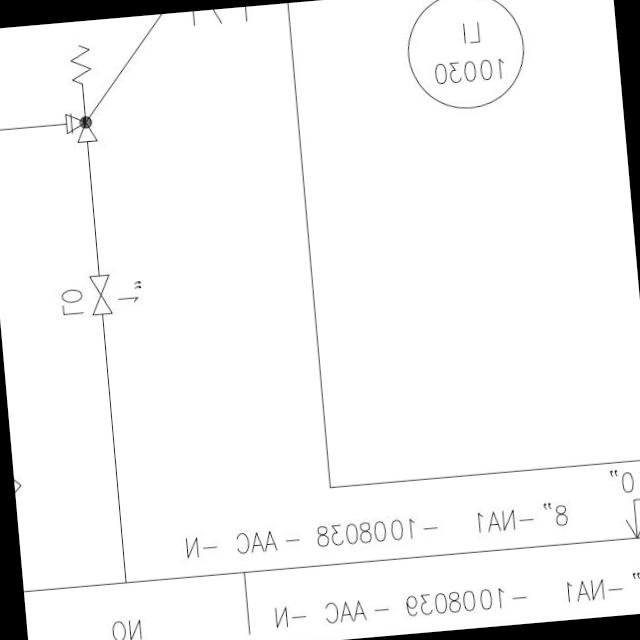GV: (84, 267, 121, 320)
RPV: (52, 39, 102, 152)
